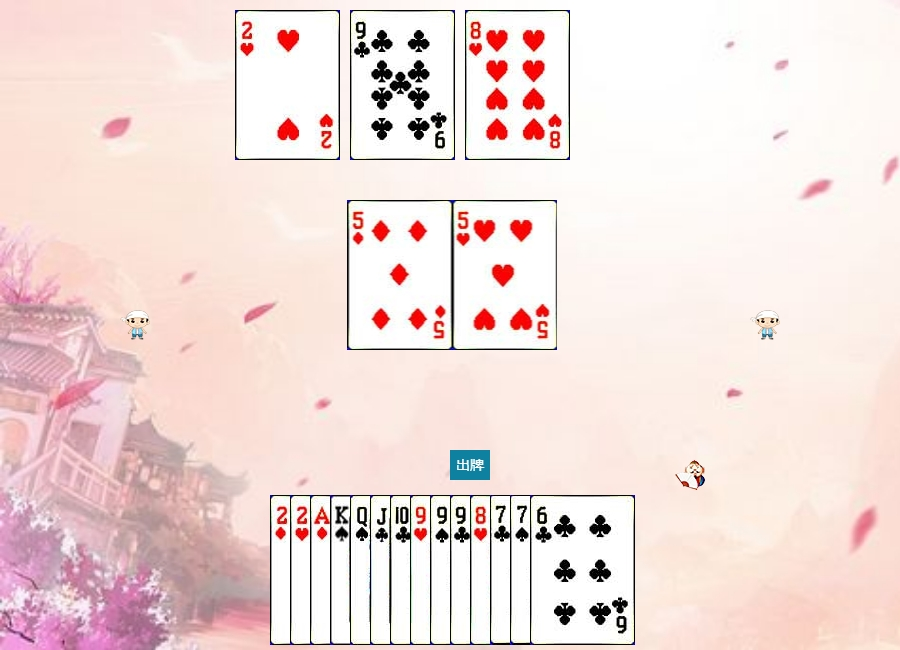10~2: (390, 495, 495, 645)
11~2: (370, 495, 475, 645)
12~4: (350, 495, 455, 645)
13~4: (330, 495, 435, 645)
14~1: (310, 495, 415, 645)
15~1: (270, 495, 375, 645)
15~3: (235, 10, 340, 160), (290, 495, 395, 645)
5~1: (348, 200, 453, 350)
5~3: (453, 200, 558, 350)
6~2: (530, 495, 635, 645)
7~2: (490, 495, 595, 645)
7~4: (510, 495, 615, 645)
8~3: (465, 10, 570, 160), (470, 495, 575, 645)
9~2: (350, 10, 455, 160), (450, 495, 555, 645)
9~3: (410, 495, 515, 645)
9~4: (430, 495, 535, 645)
